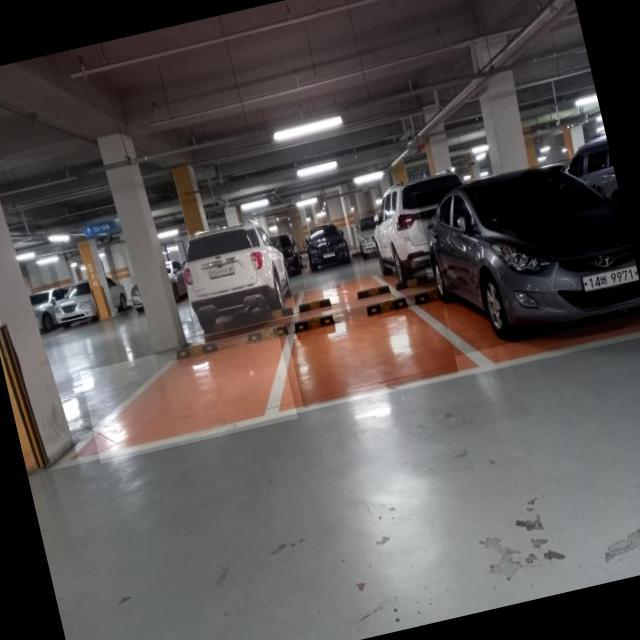empty: (80, 326, 298, 463), (284, 287, 458, 408)
occupied: (415, 149, 640, 356), (174, 214, 298, 338)
